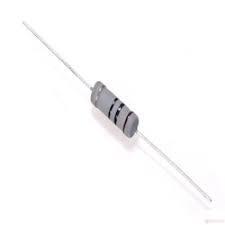resistor: (86, 69, 151, 150)
